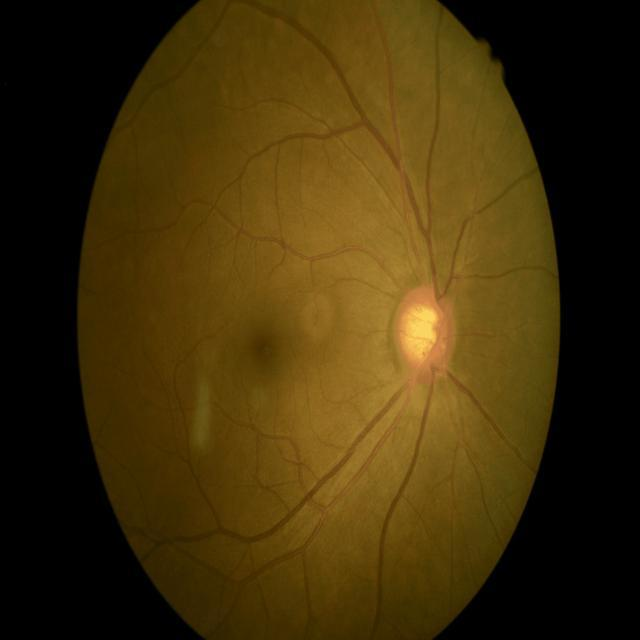cup: (401, 304, 445, 368)
disk: (394, 283, 457, 378)
